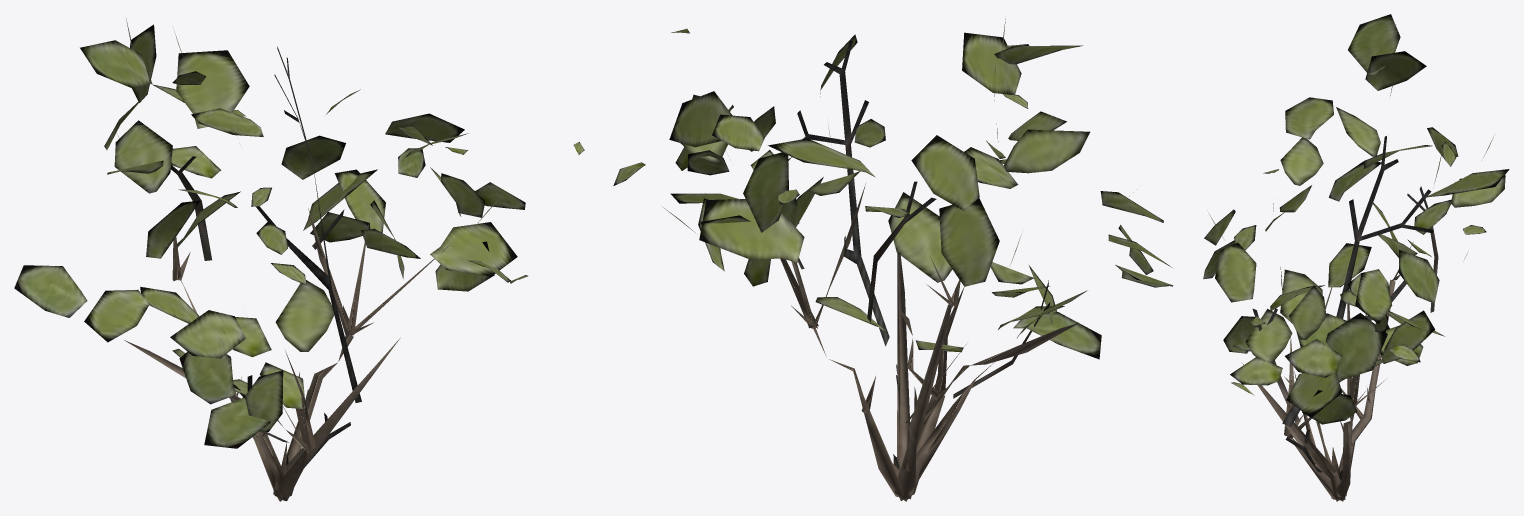
Rendered from arbuste_searsia_e_lod2.glb.
3 renders of one model, left to right at view 1: azimuth 30°, elevation 25°; view 2: azimuth 150°, elevation 25°; view 3: azimuth 270°, elevation 25°, orthographic. The views are drawn at different scales.
Parts seen in each view (by area): view 1: searsia_lucida_e_LOD0; view 2: searsia_lucida_e_LOD0; view 3: searsia_lucida_e_LOD0.
Boxes of the visible parts, <box> form: searsia_lucida_e_LOD0: <box>14,18,584,501</box>; searsia_lucida_e_LOD0: <box>613,18,1173,501</box>; searsia_lucida_e_LOD0: <box>1203,14,1509,501</box>.
Size of the model in its own units: 1.01 by 0.9385 by 0.6062.
Materials: 2 (2 with a texture image).
